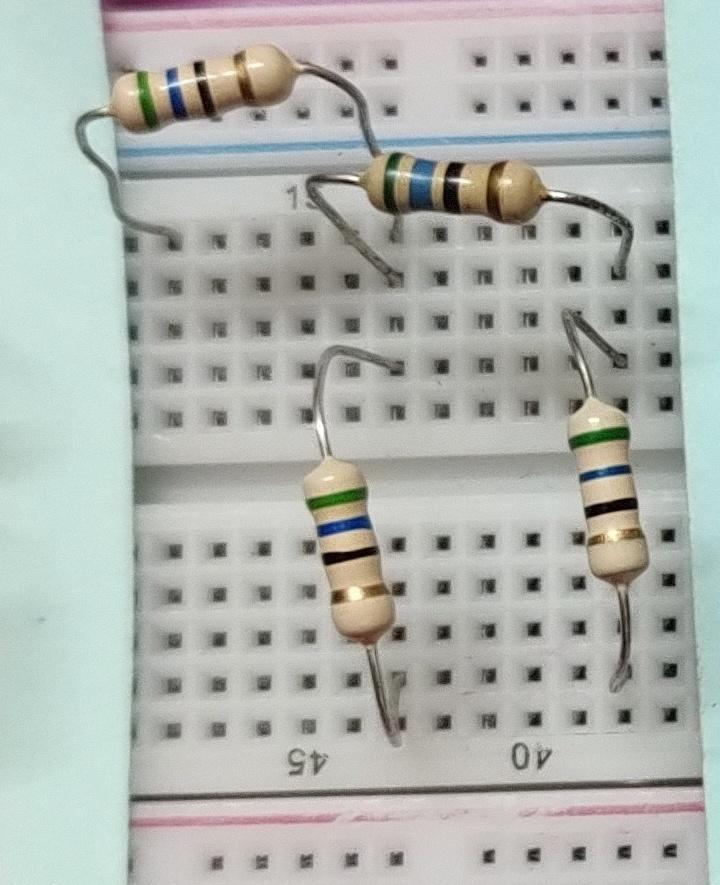resistor: (275, 440, 425, 651), (547, 392, 670, 602), (89, 39, 321, 136), (349, 149, 574, 236)
